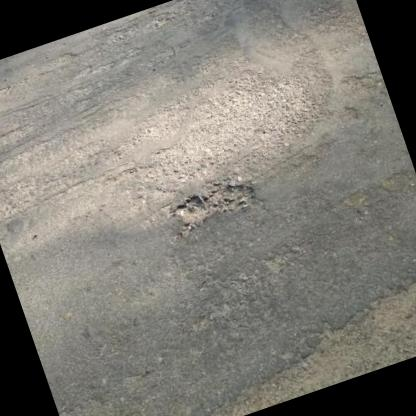pothole: (140, 259, 416, 416), (164, 173, 260, 237)
